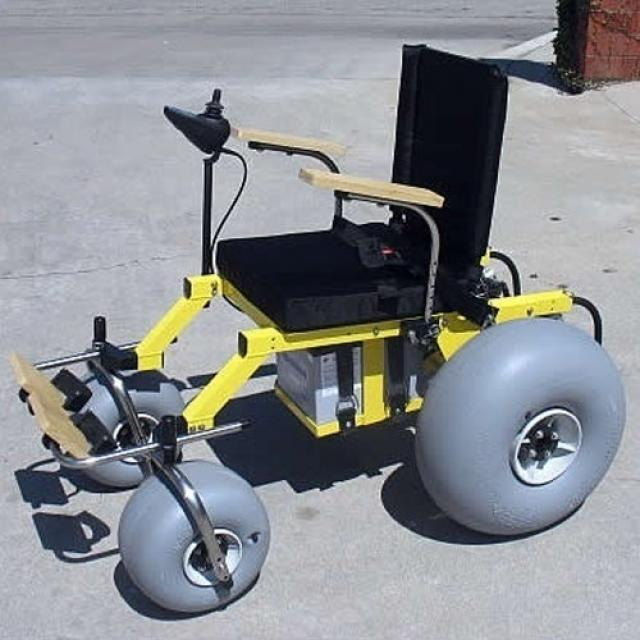wheelchair: (10, 35, 631, 621)
